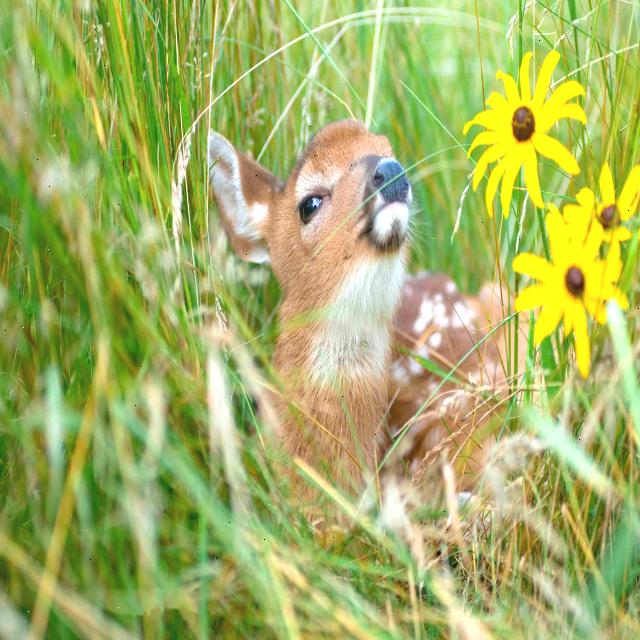deer: (206, 110, 459, 394)
